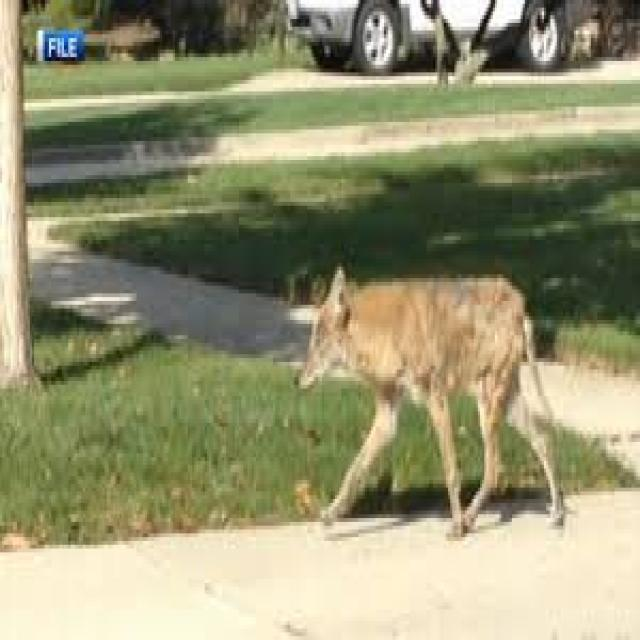Coyote: (278, 262, 568, 534)
